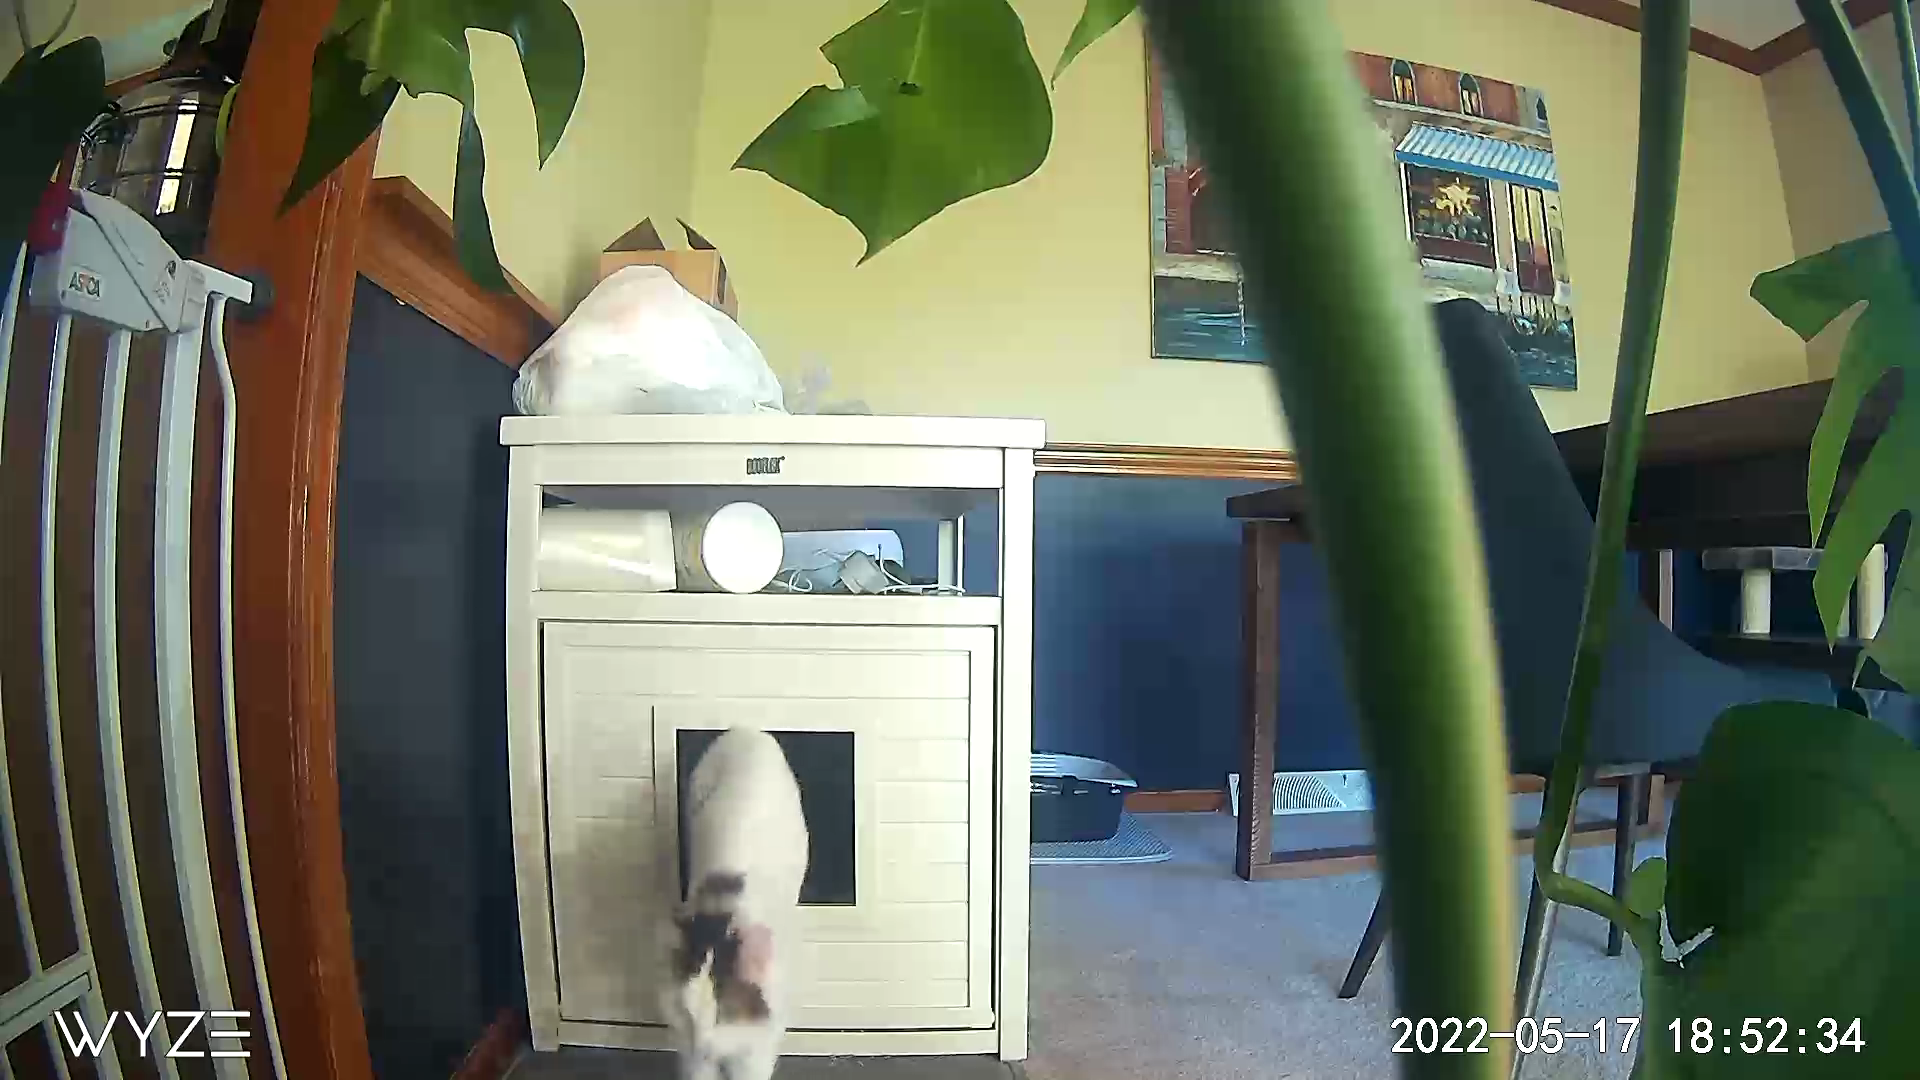maoxin: (640, 756, 803, 1080)
